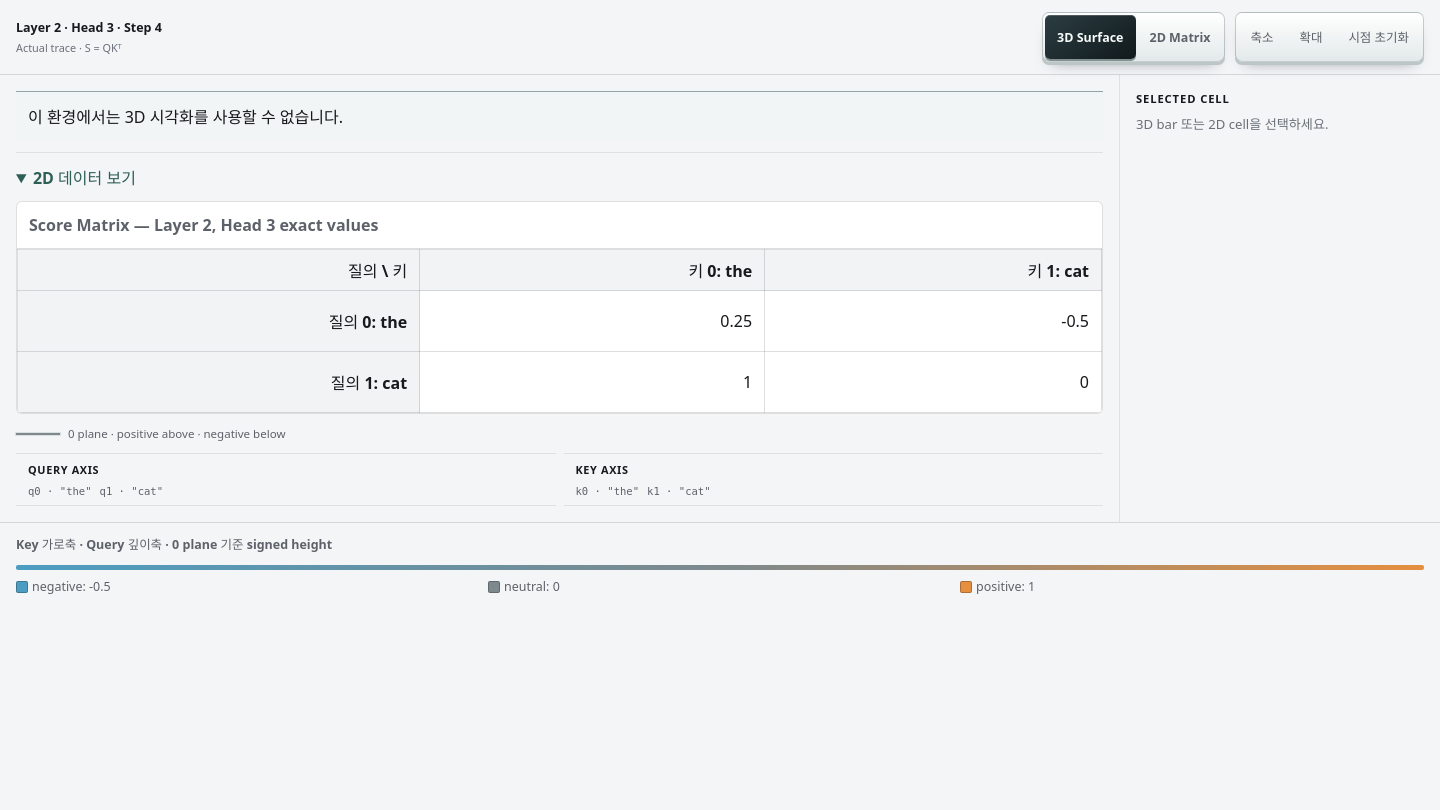
it: ScoreMatrixVisualizationPane › presents one viewer title, clear axes, and selectable 3D or 2D data
This screenshot has width=1440, height=810.
Expected: the text "Layer 2 · Head 3 · Step 4" is shown, [16, 19, 162, 36]
Expected: the element named "Query axis" shows "q0 · \"the\"", [16, 453, 556, 506]
Click the button "2D Matrix": (1180, 37) [1138, 15, 1222, 59]
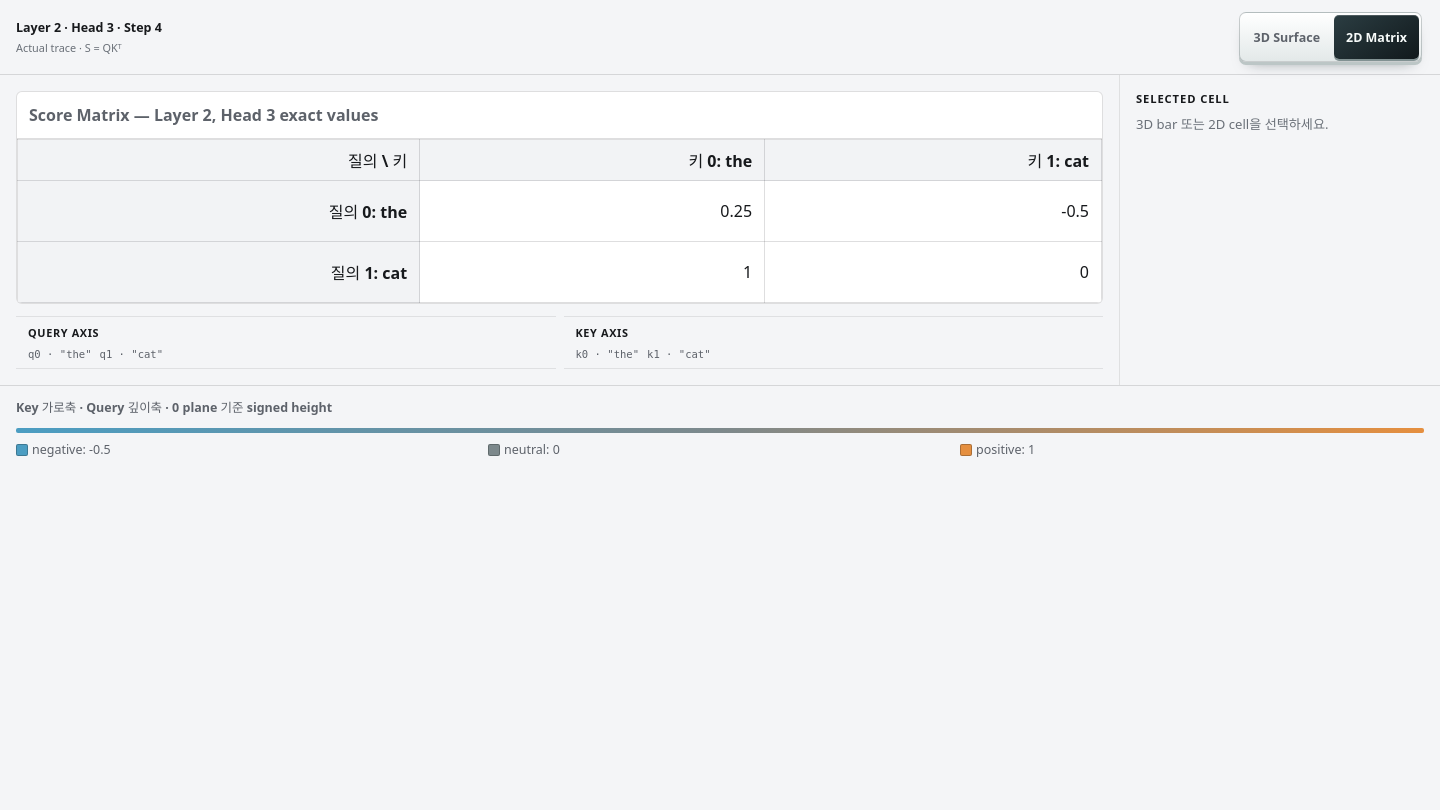
Expected: the button "2D Matrix" is shown, [1334, 15, 1419, 59]
Now the element that starts with "Layer" has attribute data-score-matrix-mode="2d", box [0, 0, 1439, 474]
Click the button named "질의 0 the, 키 0 the:": (736, 211) [432, 189, 752, 233]
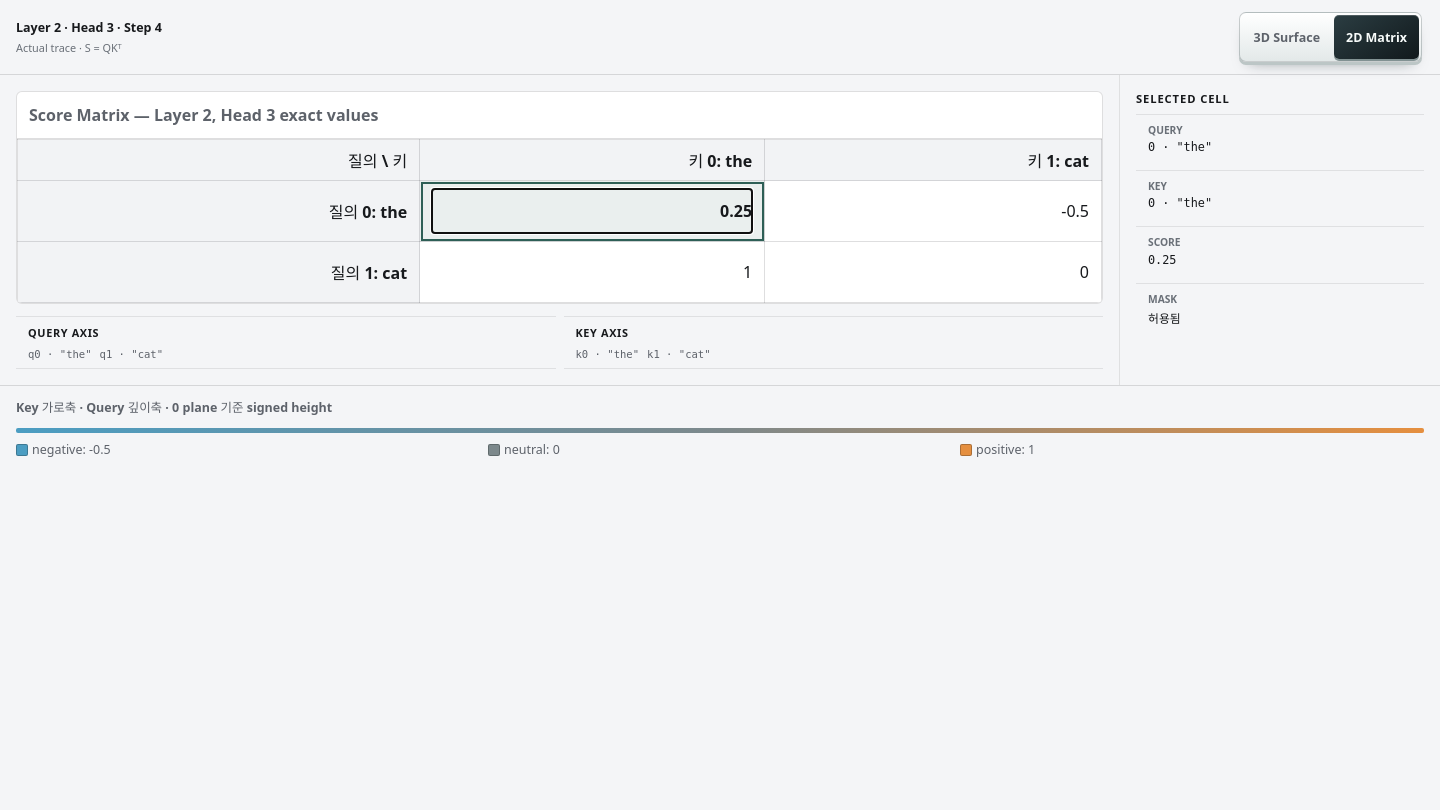
Now the 1st text "0 · \"the\"" reads "0 · \"the\"", box [1148, 140, 1212, 154]
